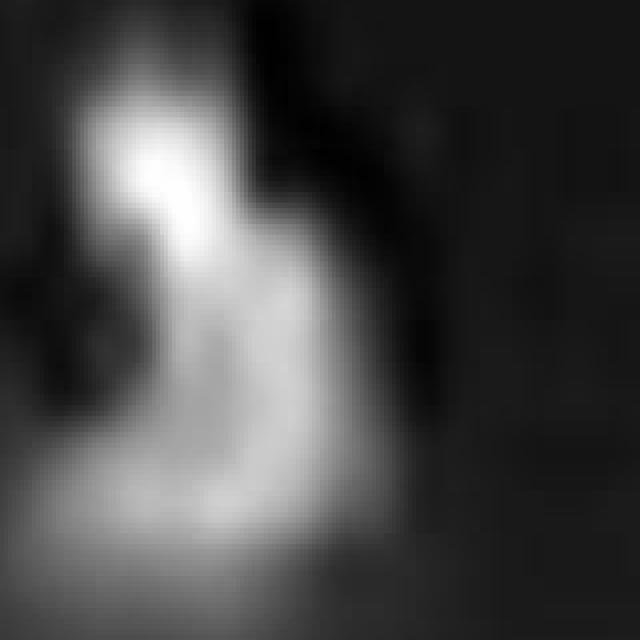person: (1, 17, 409, 598)
